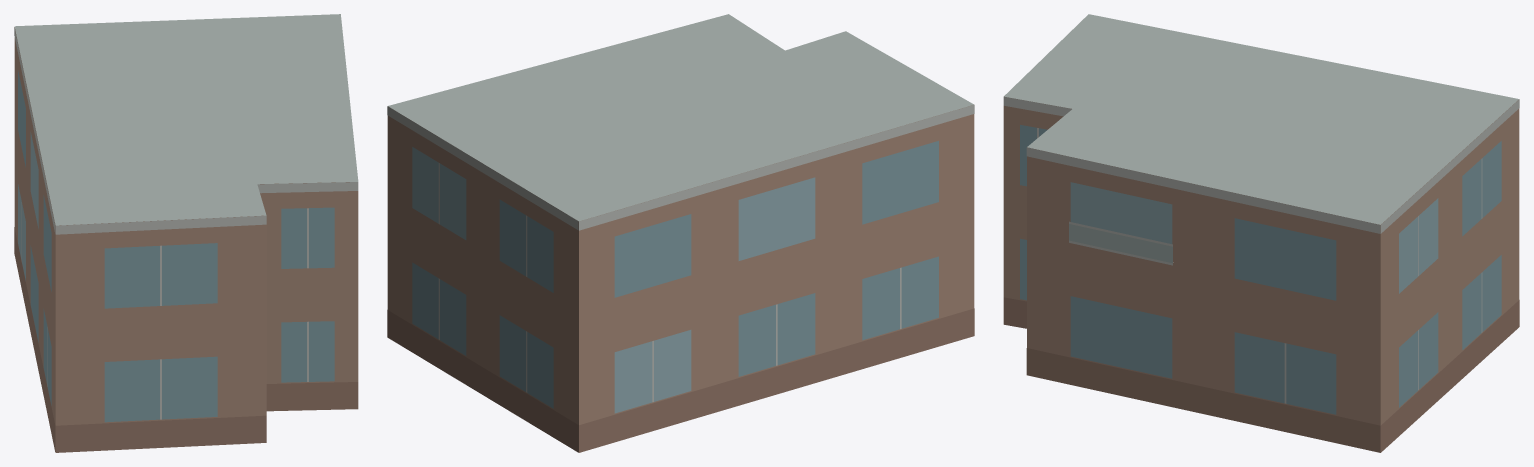
Rendered from survey-upis-32997148.glb.
3 views of the same model, side by side, from view 1: azimuth 30°, elevation 25°; view 2: azimuth 150°, elevation 25°; view 3: azimuth 270°, elevation 25° (orthographic).
Visible parts, largest first — view 1: survey-upis-32997148.tmp; view 2: survey-upis-32997148.tmp; view 3: survey-upis-32997148.tmp.
Boxes of the visible parts, x1,y1,x2,y2 form: survey-upis-32997148.tmp: [14, 14, 358, 452]; survey-upis-32997148.tmp: [387, 14, 974, 452]; survey-upis-32997148.tmp: [1003, 14, 1519, 452].
Bounding box in the file's own units: 12.11 × 6.1 × 12.52.
